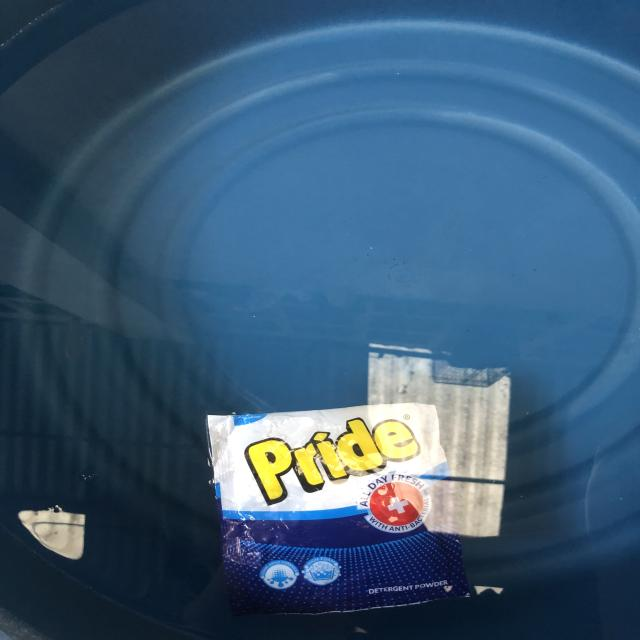Plastic Wrapper: (208, 403, 469, 614), (292, 435, 322, 471)
